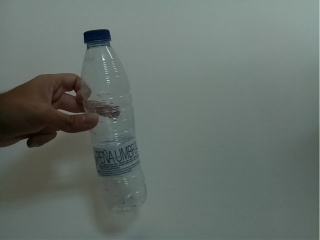botella plastico: (79, 26, 150, 213)
